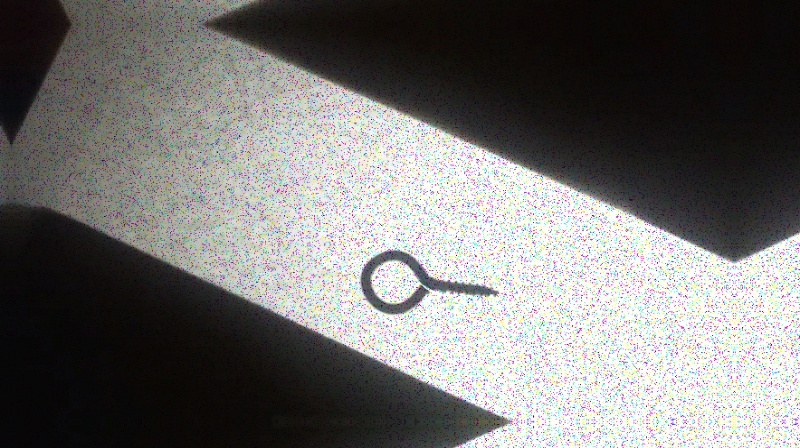O001: (354, 247, 504, 316)
